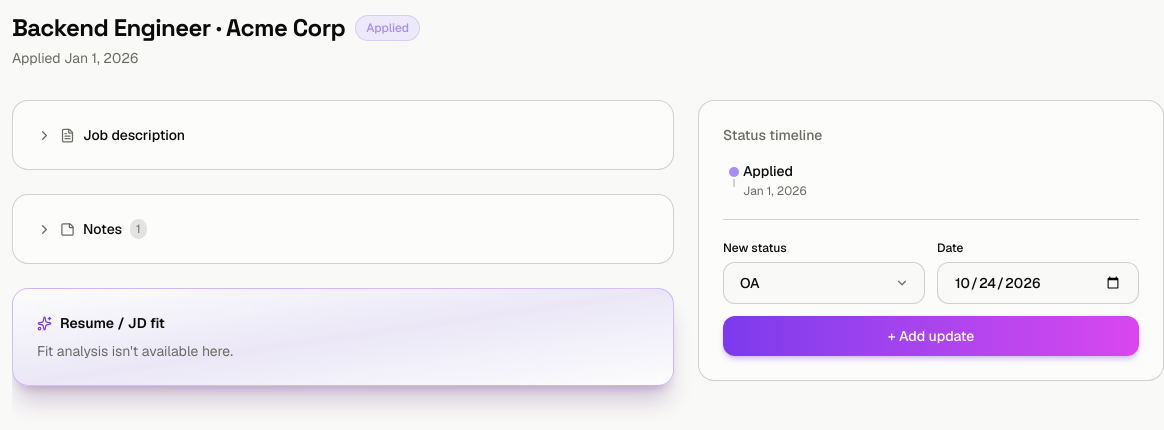
Test case: ApplicationDetailView › shows an error message if the status update fails
The width and height of the screenshot is (1164, 430).
Click the button "+ Add update": (931, 336) [723,316,1139,356]
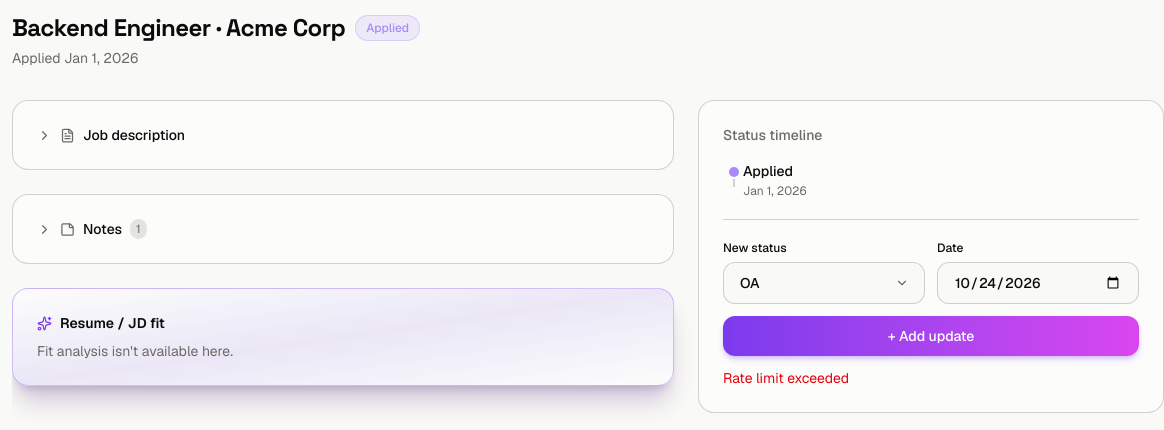
Check: the text "Rate limit exceeded" is shown, box [723,369,849,387]
